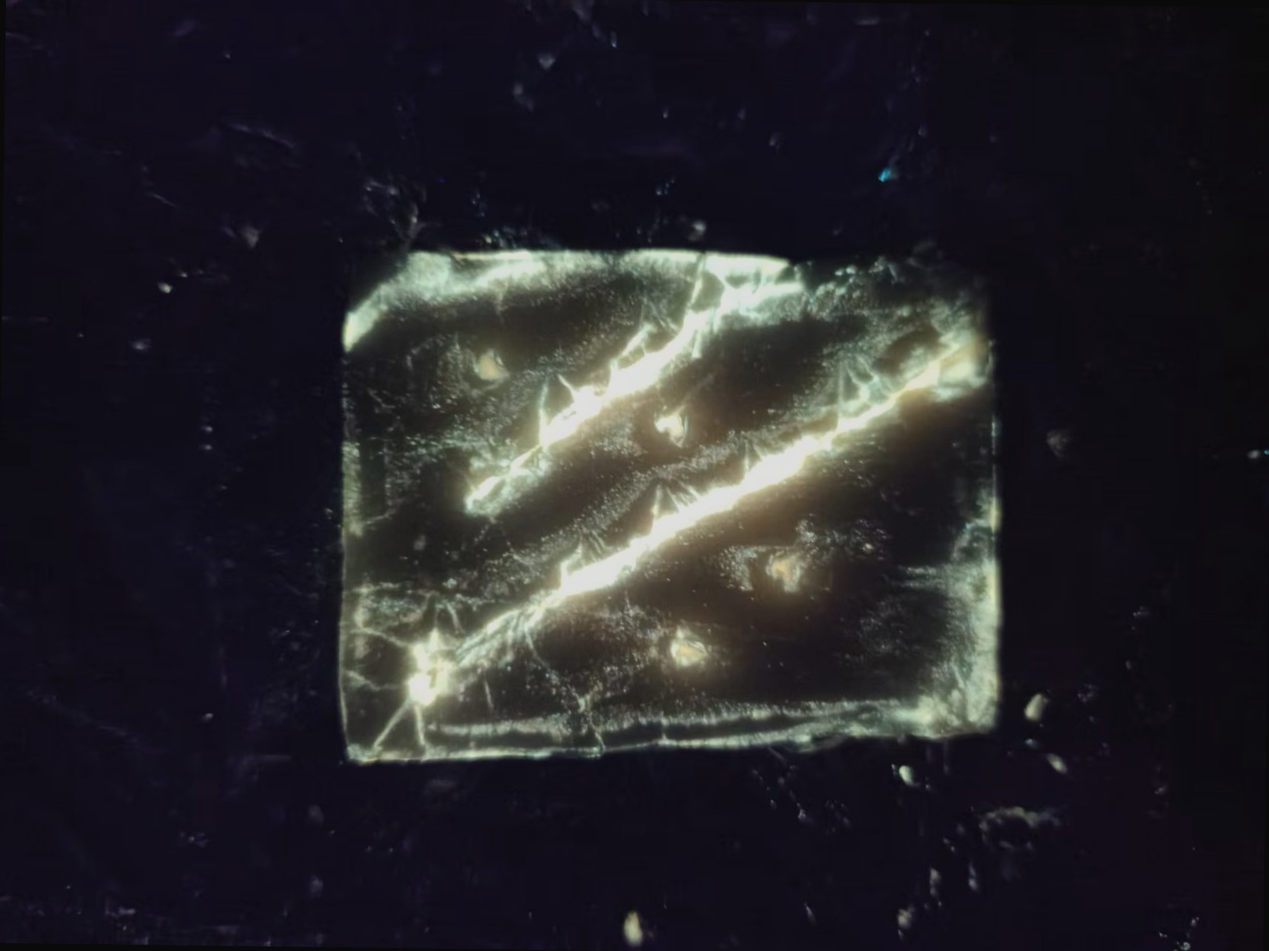Crater: (727, 529, 853, 606), (433, 323, 525, 405), (637, 607, 729, 688), (628, 393, 715, 456)
Fissure: (385, 329, 967, 711), (440, 262, 824, 535)
